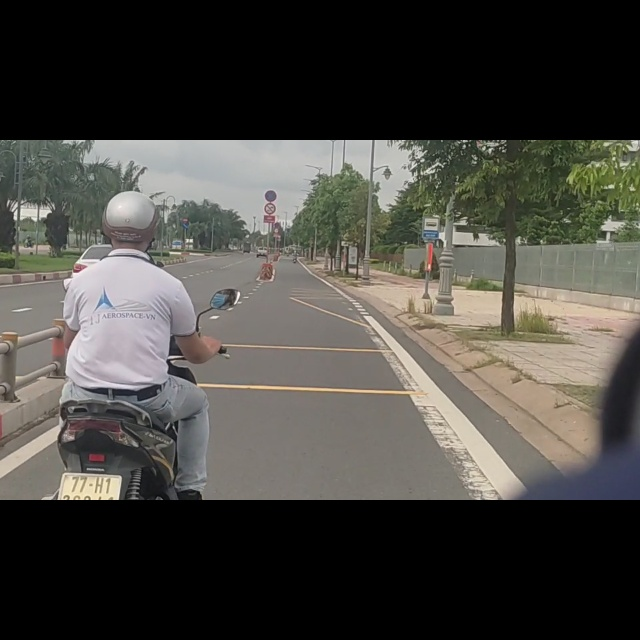bien_hieu_lenh: (421, 133, 439, 179), (264, 87, 278, 111), (264, 111, 277, 134)
